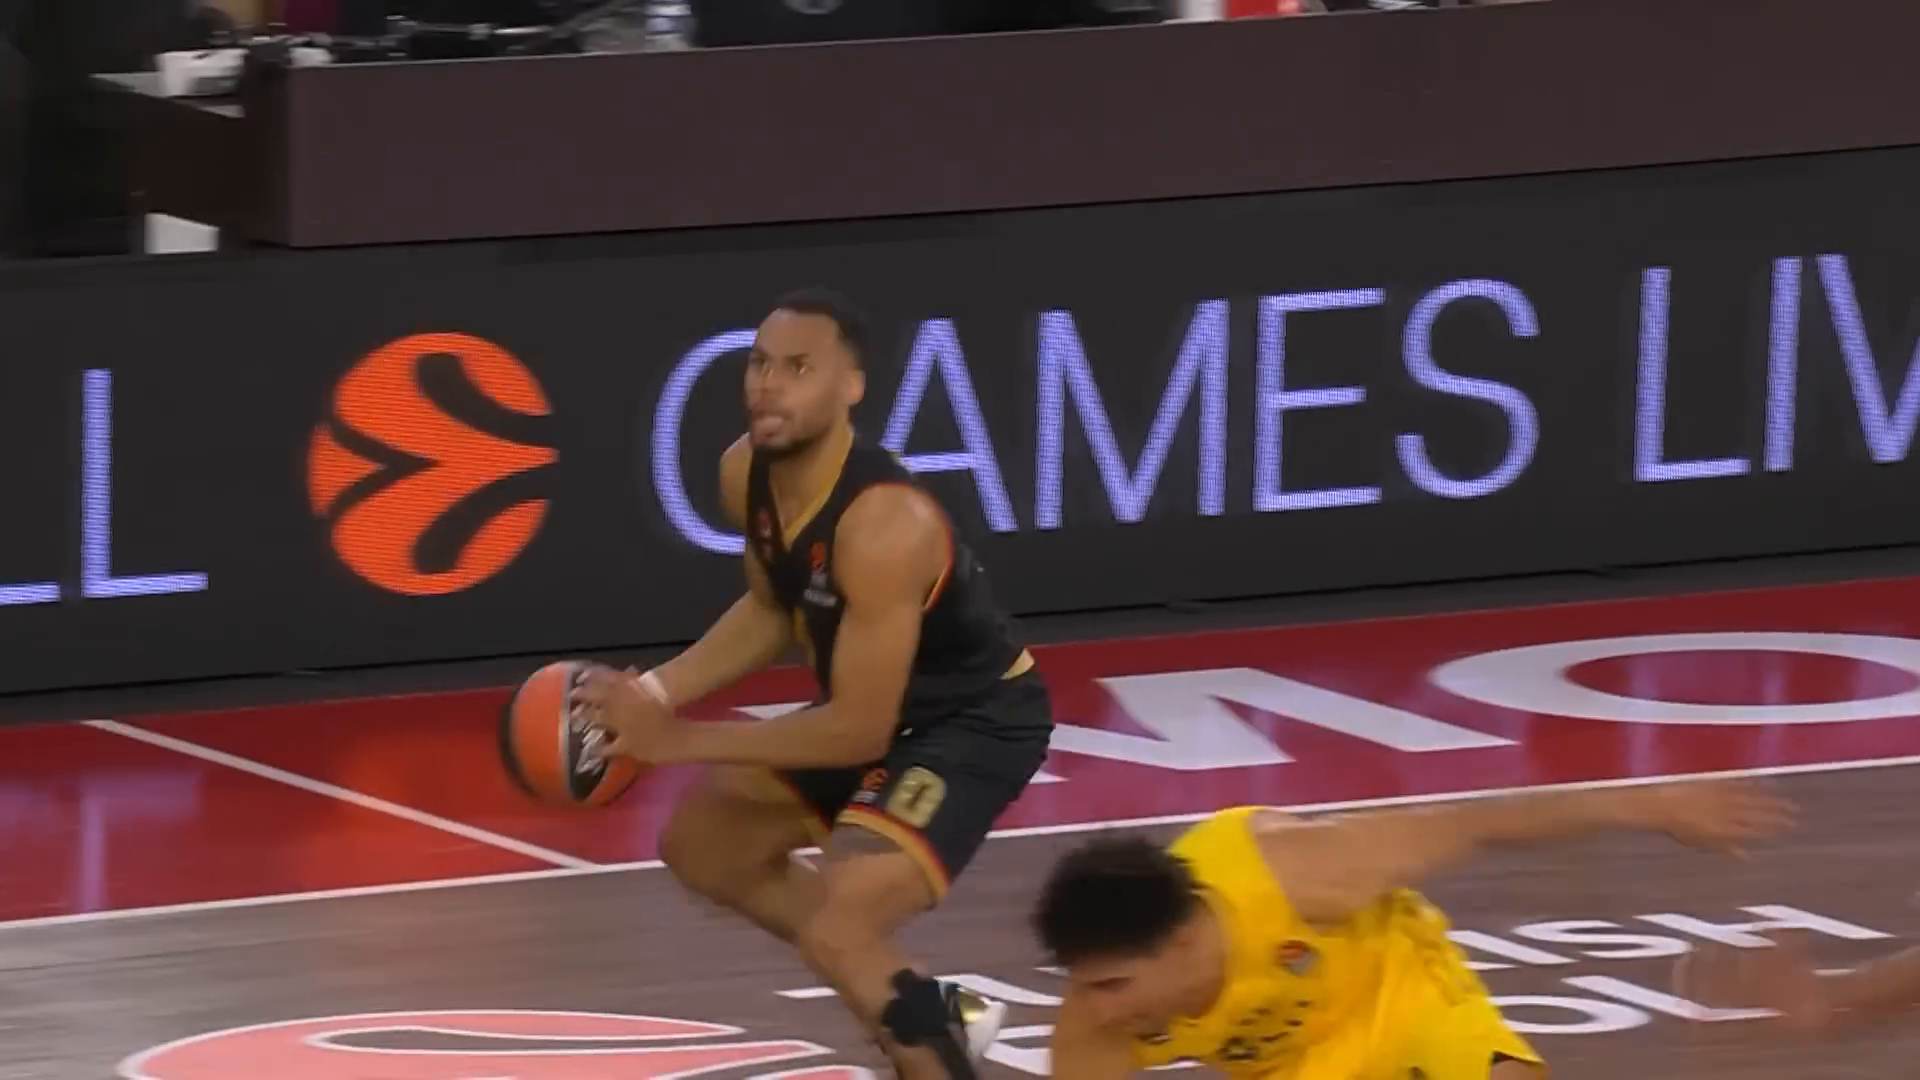ball: (477, 647, 675, 812)
